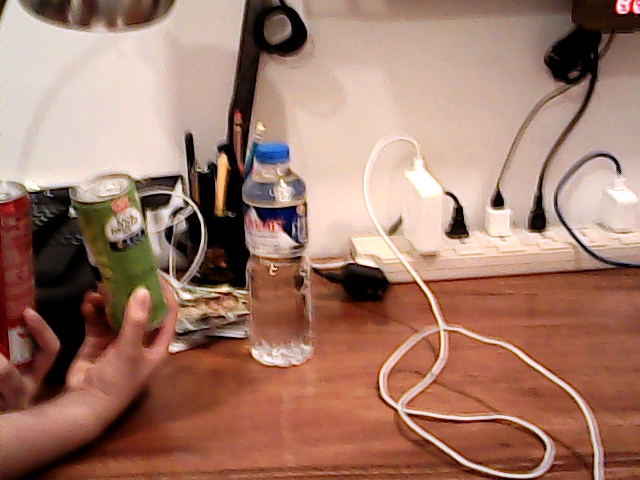Cola: (1, 175, 58, 369)
Pine Juice: (73, 172, 169, 321)
Summit Water: (241, 140, 317, 365)
